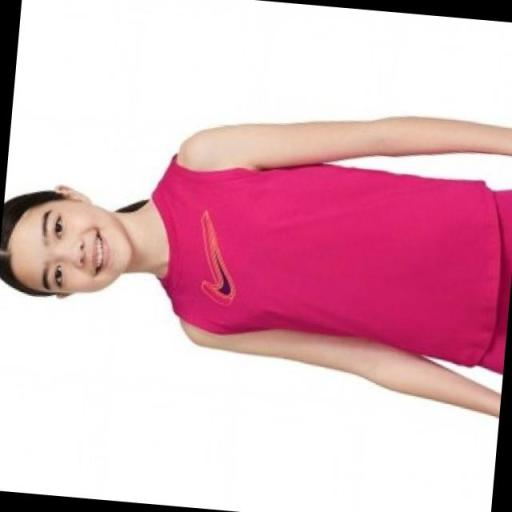Nike: (194, 207, 239, 306)
